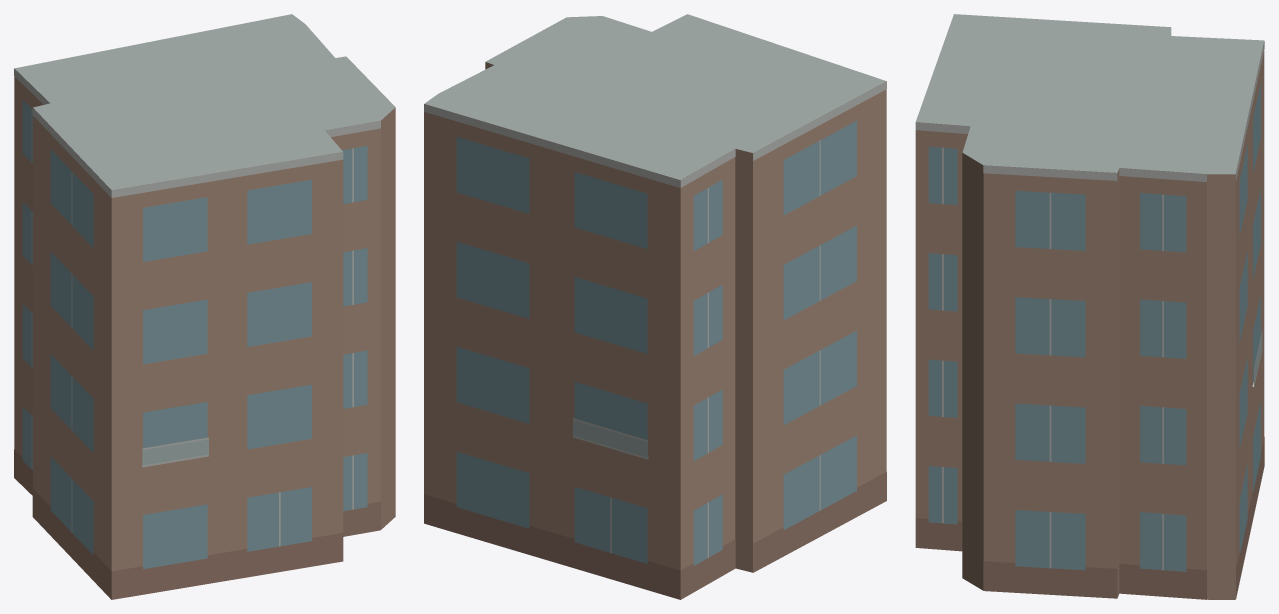
Rendered from survey-upis-32974268.glb.
The picture shows the model from 3 angles, left to right: view 1: azimuth 30°, elevation 25°; view 2: azimuth 150°, elevation 25°; view 3: azimuth 270°, elevation 25°; orthographic projection. The views are drawn at different scales.
Parts seen in each view (by area): view 1: survey-upis-32974268.tmp; view 2: survey-upis-32974268.tmp; view 3: survey-upis-32974268.tmp.
Boxes of the visible parts, x1,y1,x2,y2 form: survey-upis-32974268.tmp: (14,14,395,599); survey-upis-32974268.tmp: (424,14,886,599); survey-upis-32974268.tmp: (915,14,1264,599).
Size of the model in its own units: 10.42 by 12.9 by 9.59.
